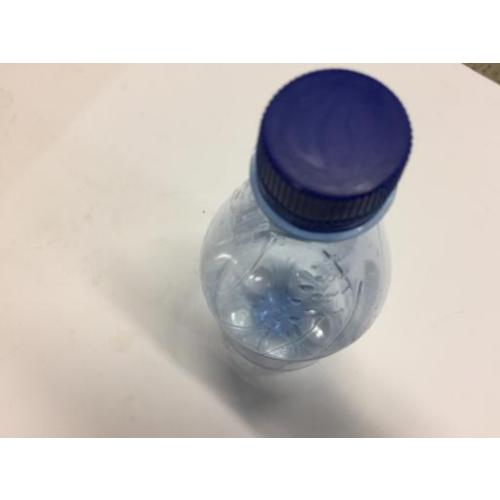plastic: (199, 70, 414, 380)
